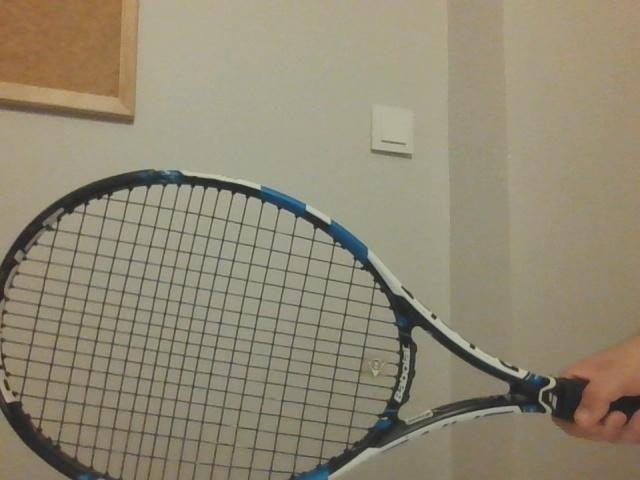Tennis-Racket: (0, 169, 640, 480)
